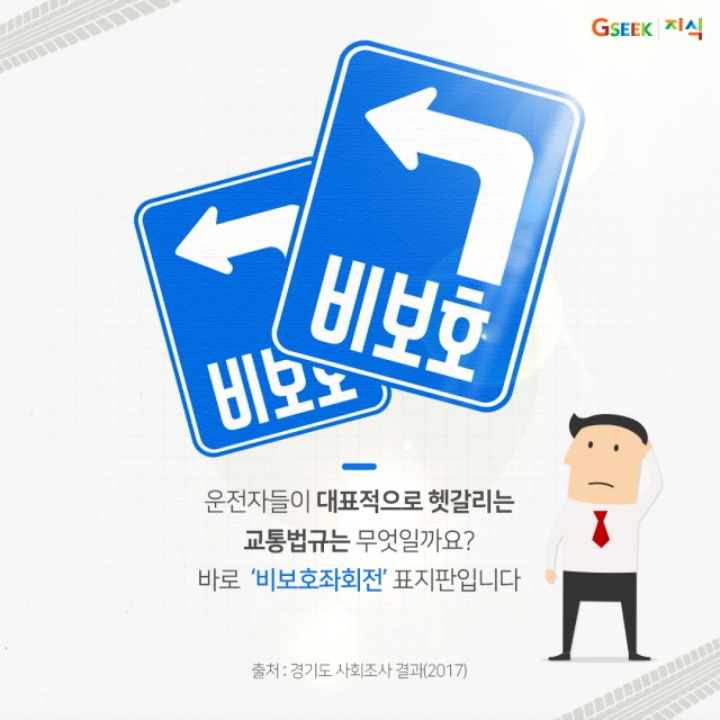left: (345, 68, 537, 292)
